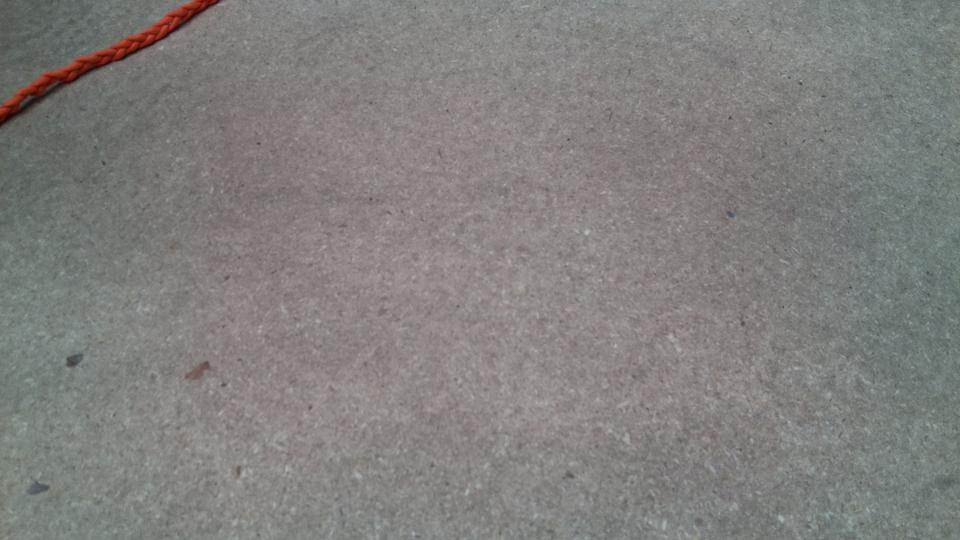rope: (1, 1, 206, 123)
